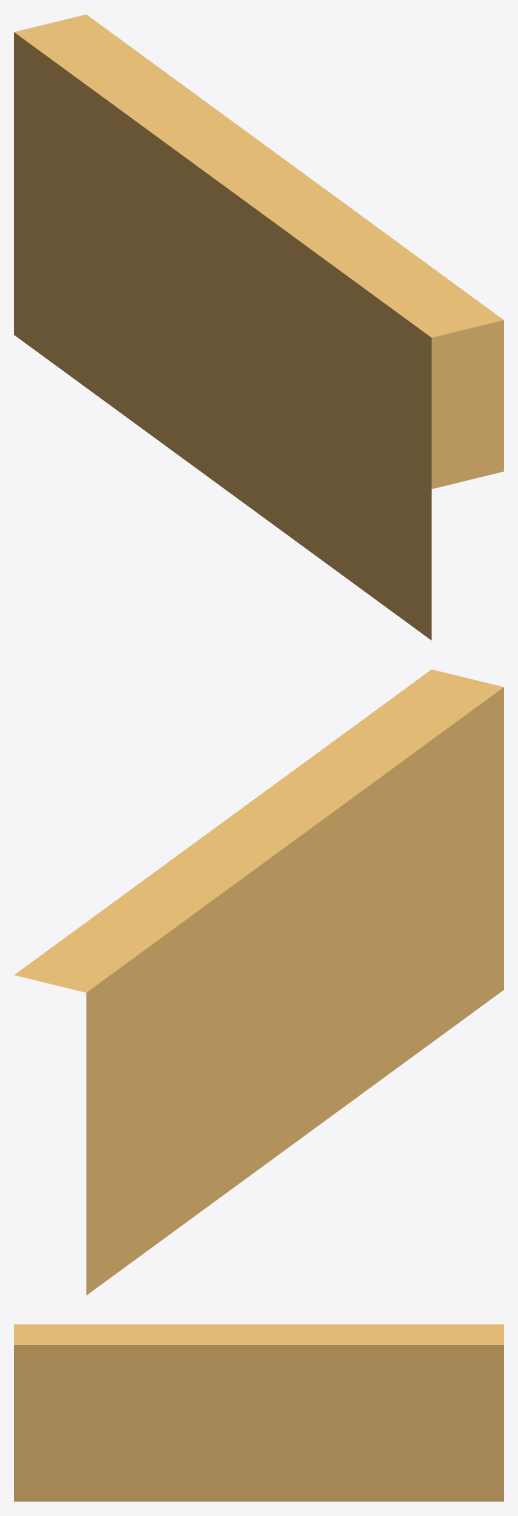
3 views of the same model, one above another, from view 1: azimuth 30°, elevation 25°; view 2: azimuth 150°, elevation 25°; view 3: azimuth 270°, elevation 25° (orthographic). The views are drawn at different scales.
Size of the model in its own units: 0.1 by 0.4 by 1.
